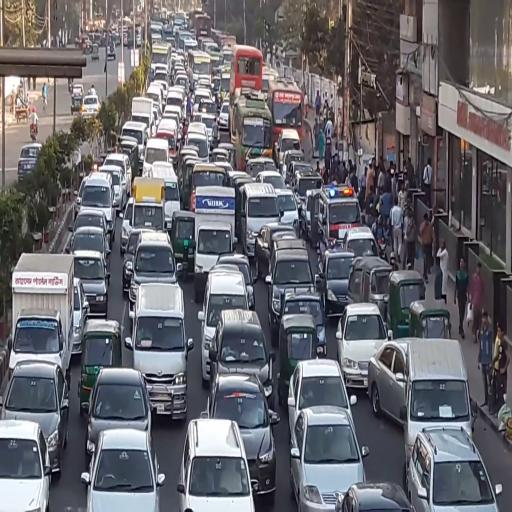ambulance: (320, 184, 363, 260)
bus: (235, 97, 273, 173), (269, 75, 306, 150), (231, 45, 264, 119), (188, 51, 213, 88), (151, 41, 173, 81), (176, 29, 193, 52), (196, 16, 212, 40), (222, 69, 232, 101), (181, 37, 199, 52), (199, 38, 216, 51), (151, 22, 164, 39)
car: (291, 407, 371, 512), (1, 361, 69, 478), (83, 431, 165, 512), (338, 302, 391, 400), (2, 421, 50, 512), (368, 335, 411, 427), (74, 250, 111, 317), (69, 228, 112, 277), (70, 211, 113, 248), (98, 165, 128, 215), (82, 95, 103, 118), (176, 75, 189, 90)
human hauler: (130, 177, 169, 244)
minivan: (199, 371, 280, 501), (207, 308, 277, 413), (197, 271, 256, 377), (128, 230, 185, 337), (198, 99, 217, 114), (107, 40, 117, 61)
motorbike: (18, 144, 44, 184), (29, 107, 39, 140)
pickup: (9, 250, 71, 382), (193, 186, 239, 279), (130, 97, 152, 137)
suv: (409, 426, 504, 512), (178, 419, 260, 512), (321, 248, 357, 321), (104, 153, 132, 193)
three wheelers CNG: (80, 318, 122, 419), (278, 313, 319, 403), (387, 270, 428, 345), (350, 255, 391, 319), (170, 210, 199, 282), (408, 300, 455, 344), (183, 160, 204, 205), (72, 84, 85, 118), (92, 45, 100, 60)
truck: (191, 164, 228, 218)
van: (126, 283, 195, 421), (405, 339, 477, 468), (266, 236, 316, 329), (241, 184, 284, 257), (83, 171, 117, 240), (149, 160, 181, 231), (142, 139, 171, 180), (157, 120, 179, 161), (186, 121, 209, 159), (147, 84, 166, 111), (167, 91, 183, 109)
